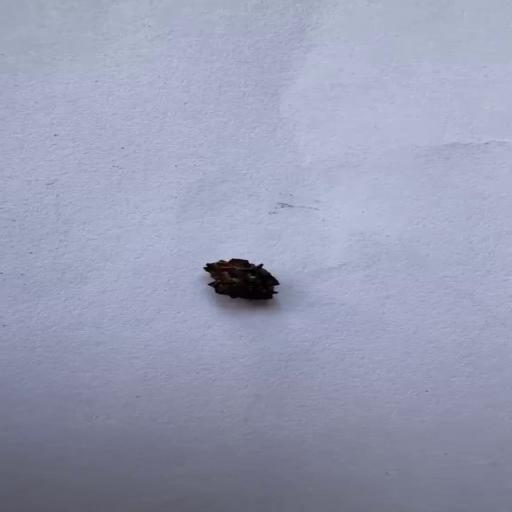papaya_seed: (202, 258, 280, 301)
